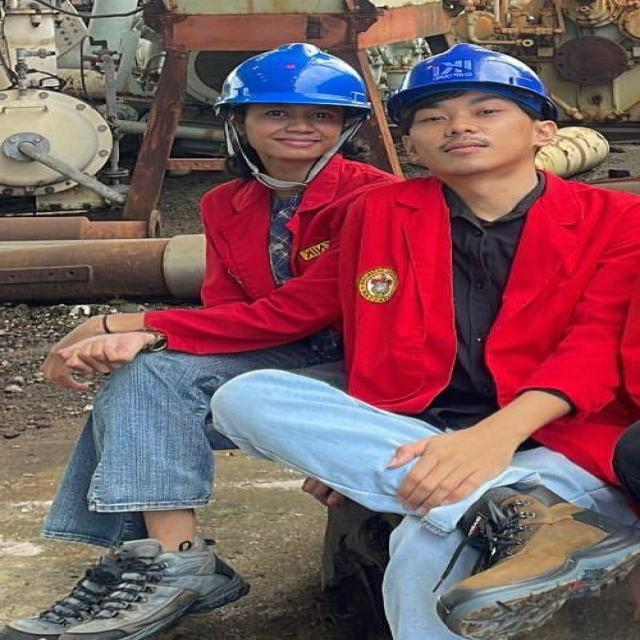safetyhelmet: (374, 49, 548, 165), (210, 35, 361, 152)
